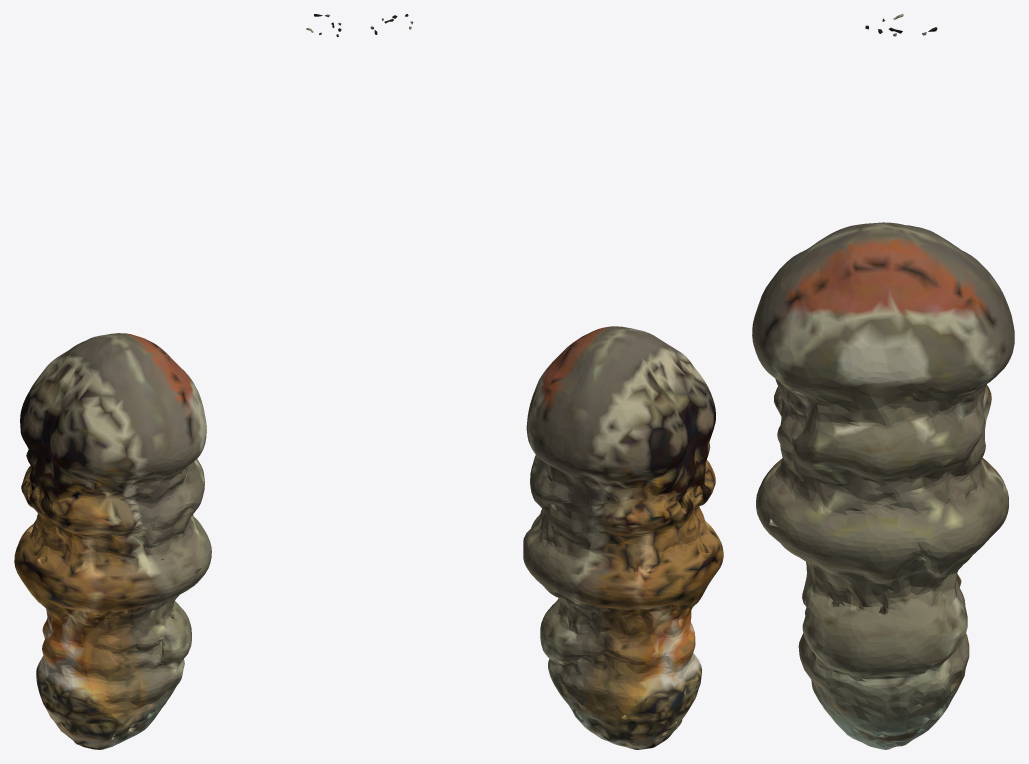
The model's file is blackBear.glb.
3 renders of one model, left to right at view 1: azimuth 30°, elevation 25°; view 2: azimuth 150°, elevation 25°; view 3: azimuth 270°, elevation 25°, orthographic. The views are drawn at different scales.
Parts seen in each view (by area): view 1: world; view 2: world; view 3: world.
Part boxes in pixels (x1,y1,x2,y2): world: (14, 14, 341, 749); world: (370, 14, 723, 749); world: (752, 14, 1014, 749).
Size of the model in its own units: 0.5037 by 1 by 0.2762.
